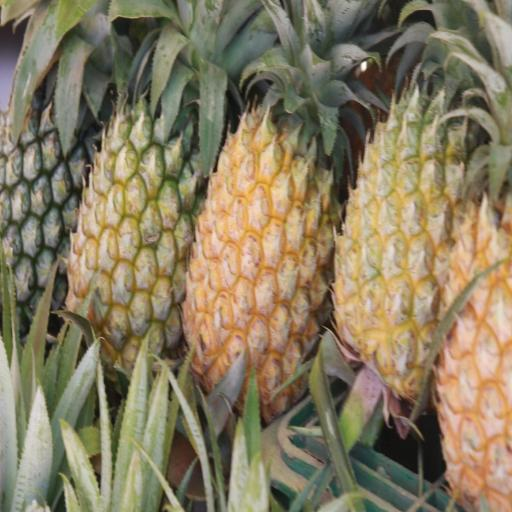------------------------------: (66, 2, 201, 373)
Pineapple - v8 v1: (181, 12, 345, 414), (327, 8, 490, 410), (435, 6, 512, 512)
